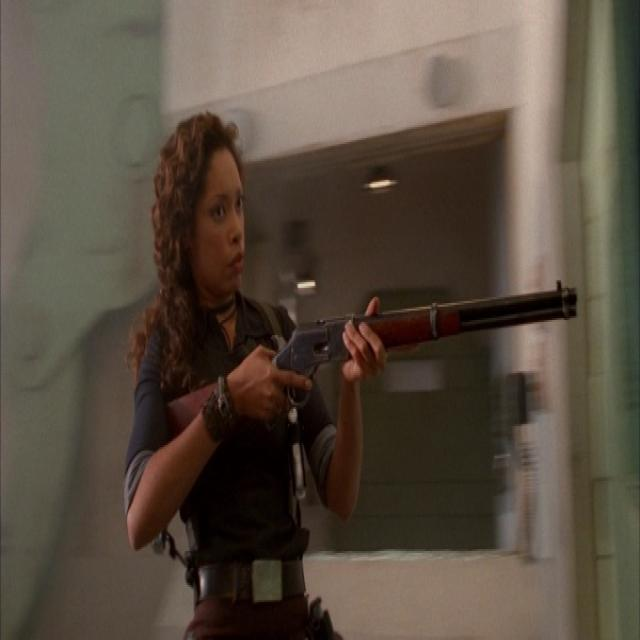rifle: (164, 275, 586, 456)
